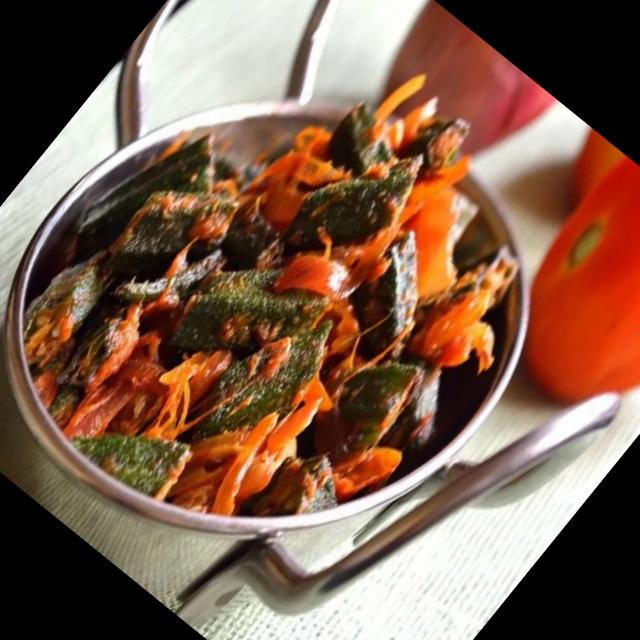BhindiMasala: (0, 0, 606, 618)
